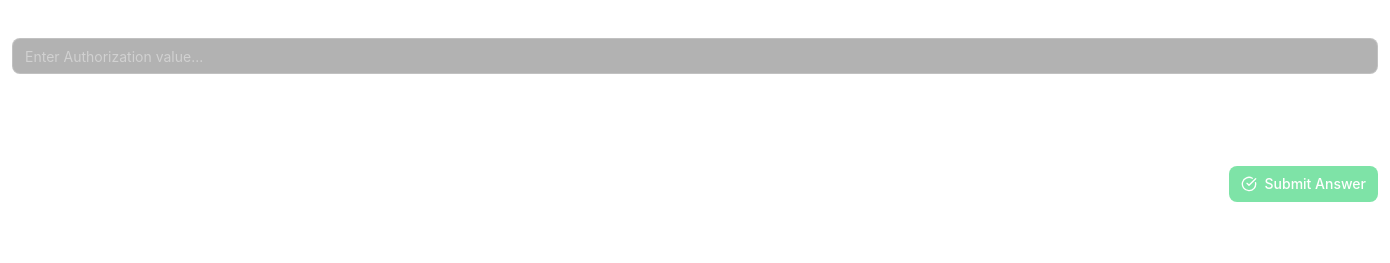
it: AddHeaders › feedback › shows success feedback after correct submission
Type "Bearer token123" into the field labelled "Authorization" at (695, 56), box [12,38,1378,74]
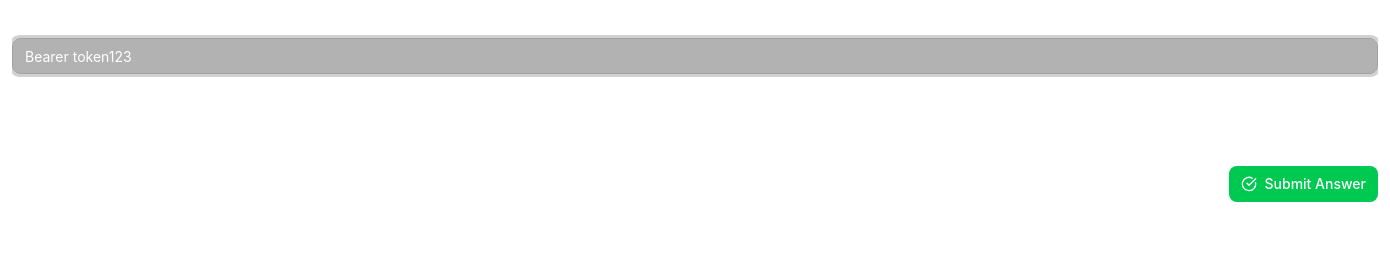
Click the button "Submit Answer" at (1303, 184), box [1228,166,1378,202]
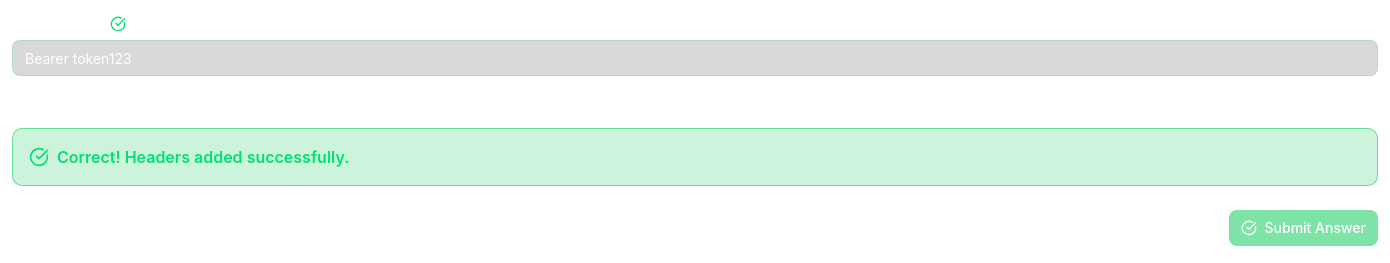
Expected: the text "Correct! Headers added successfully." is shown, [57,145,349,169]
